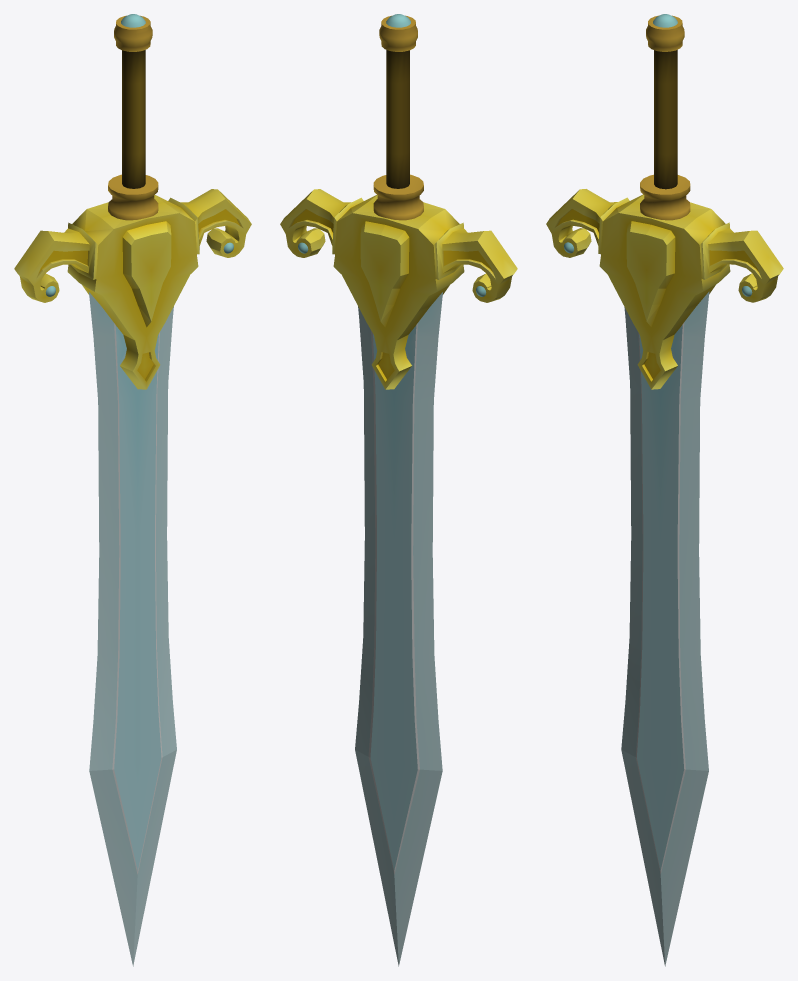
The model's file is Sword_Handle.FBX.
3 views of the same model, side by side, from view 1: azimuth 30°, elevation 25°; view 2: azimuth 150°, elevation 25°; view 3: azimuth 330°, elevation 25° (orthographic).
Visible parts, largest first — view 1: Sword_Fantasy_Handle; view 2: Sword_Fantasy_Handle; view 3: Sword_Fantasy_Handle.
Boxes of the visible parts, bbox=[...] form: Sword_Fantasy_Handle: bbox=[14, 14, 251, 966]; Sword_Fantasy_Handle: bbox=[280, 14, 517, 966]; Sword_Fantasy_Handle: bbox=[546, 14, 783, 966].
Size of the model in its own units: 46.44 by 12.85 by 184.
